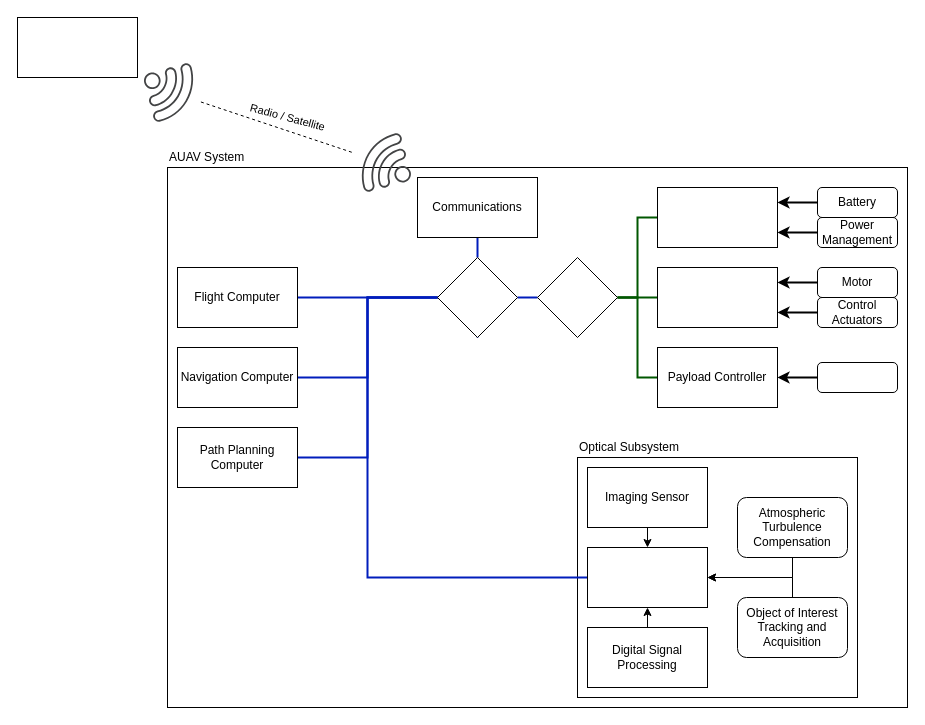
Some shapes in this 925 by 725 pixel diagram are drawn without their labels. The shapes that lost their labels are listed below. From the top down, each one's centre as x and y in pixels, then its label:
(x=77, y=47): Mobile Command Center (MCC)
(x=717, y=217): Power Controller
(x=477, y=297): Router w/ Switch
(x=577, y=297): CAN to IP Gateway
(x=717, y=297): Propulsion Controller
(x=857, y=377): Payload
(x=647, y=577): Computer with GPPP functionality
